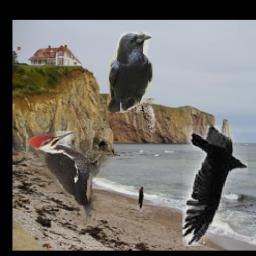Crow: (183, 125, 249, 246), (107, 32, 152, 113)
Sparrow: (135, 99, 155, 134)
Woodpecker: (27, 132, 109, 224)
